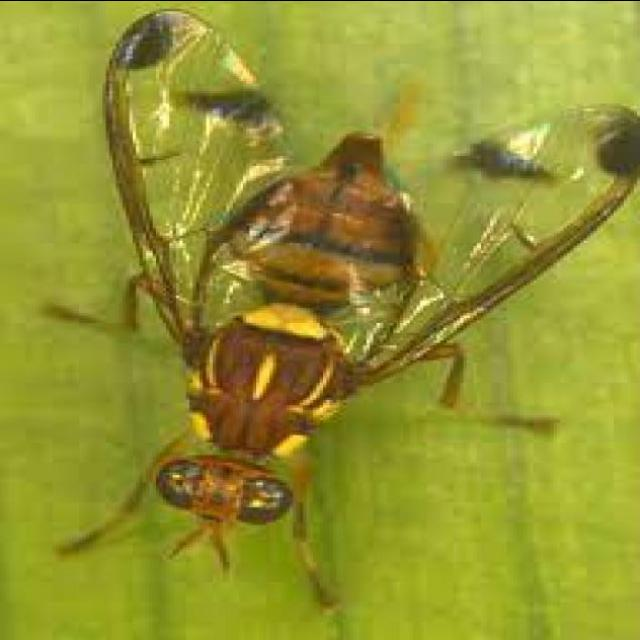Fruit fly: (38, 1, 640, 624)
